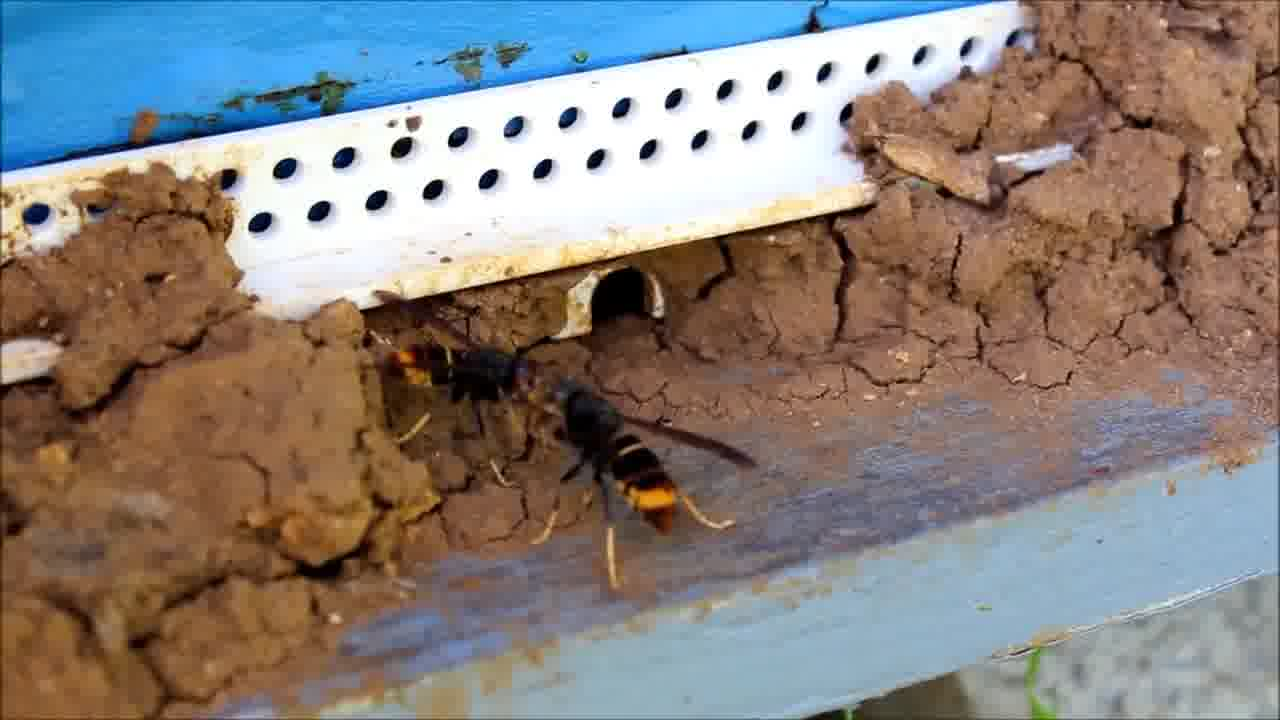hornet: (537, 391, 730, 553), (386, 332, 553, 420)
